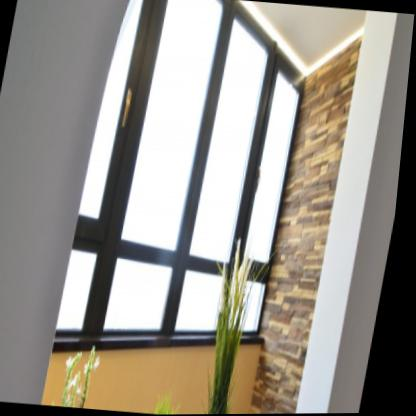Window: (111, 0, 221, 332), (181, 18, 276, 339), (62, 0, 153, 331), (238, 72, 306, 327)
